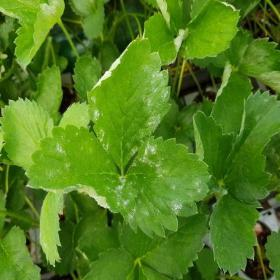Powdery Mildew Leaf: (86, 35, 173, 172), (116, 135, 213, 238), (25, 124, 124, 213), (12, 0, 66, 72), (180, 0, 241, 61), (141, 10, 185, 66)
